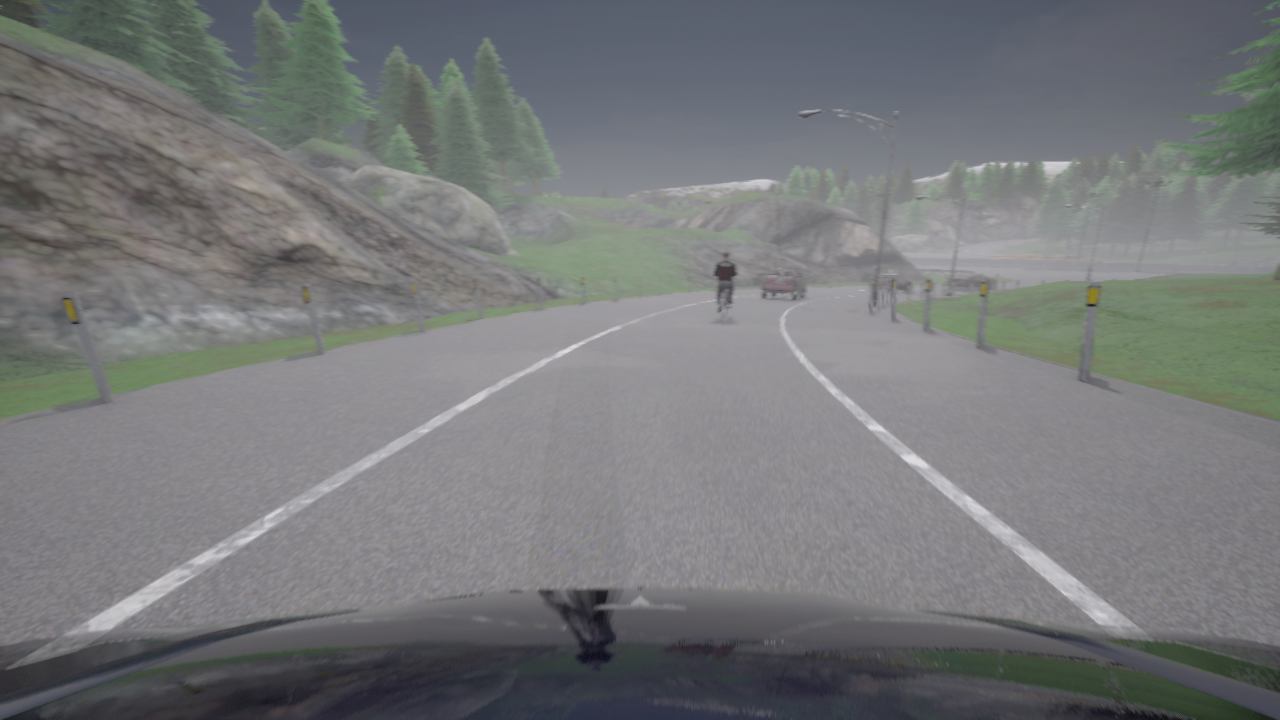cyclist: (0, 588, 1279, 719), (761, 266, 805, 299), (947, 273, 996, 289), (873, 273, 912, 292), (721, 289, 731, 322), (781, 293, 791, 295)
